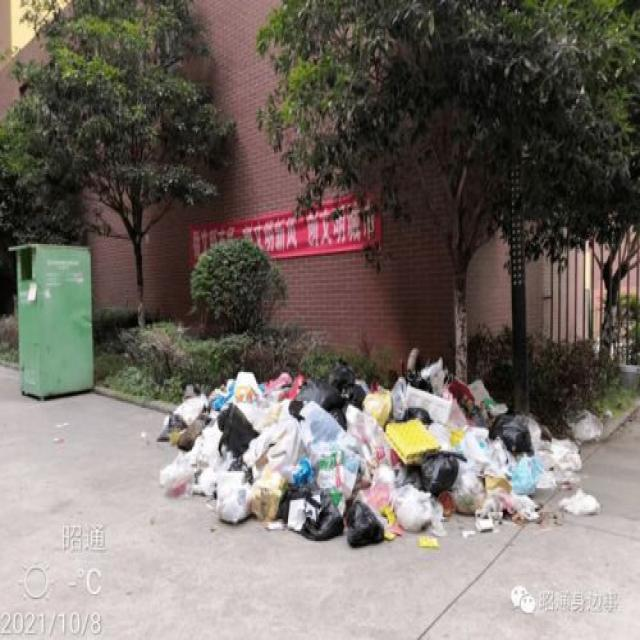garbage: (158, 350, 602, 548)
